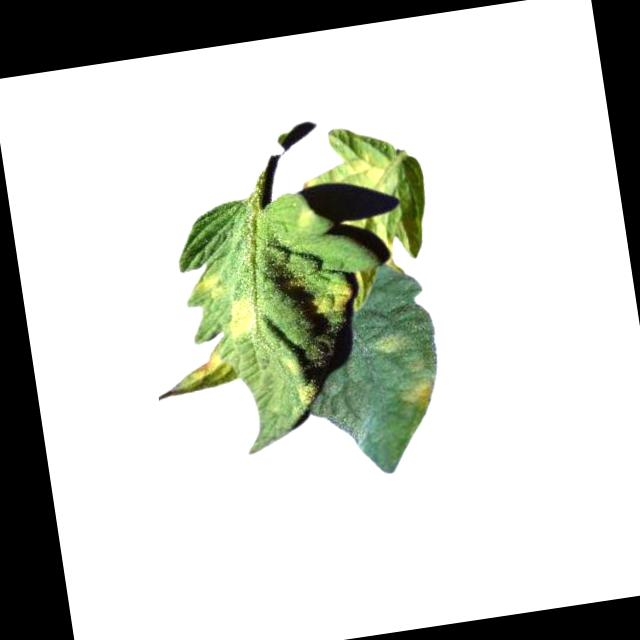Leaf_Mold: (157, 347, 238, 399), (344, 147, 395, 195), (311, 277, 359, 318), (225, 294, 263, 344), (398, 373, 441, 410), (368, 326, 415, 358), (185, 267, 232, 298)
